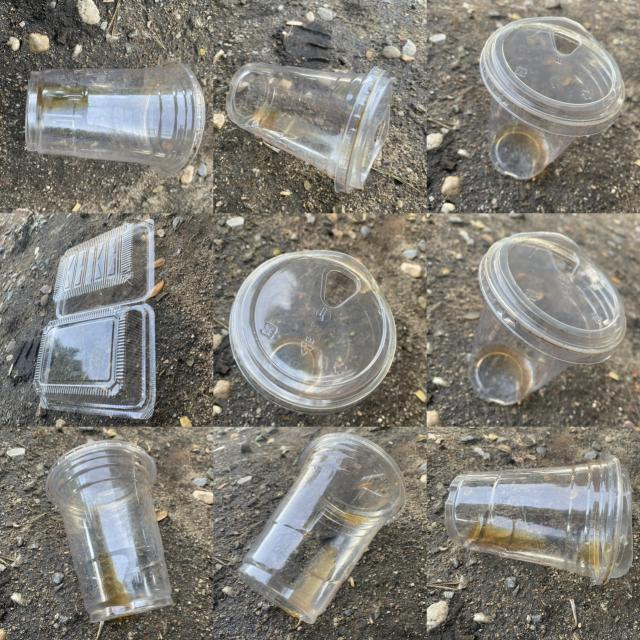Single-Use-Plastic: (238, 434, 405, 623), (229, 250, 396, 414), (469, 232, 626, 405), (34, 219, 156, 419), (445, 454, 632, 584), (480, 18, 625, 180), (46, 440, 172, 622), (226, 62, 392, 193), (25, 61, 205, 175)
